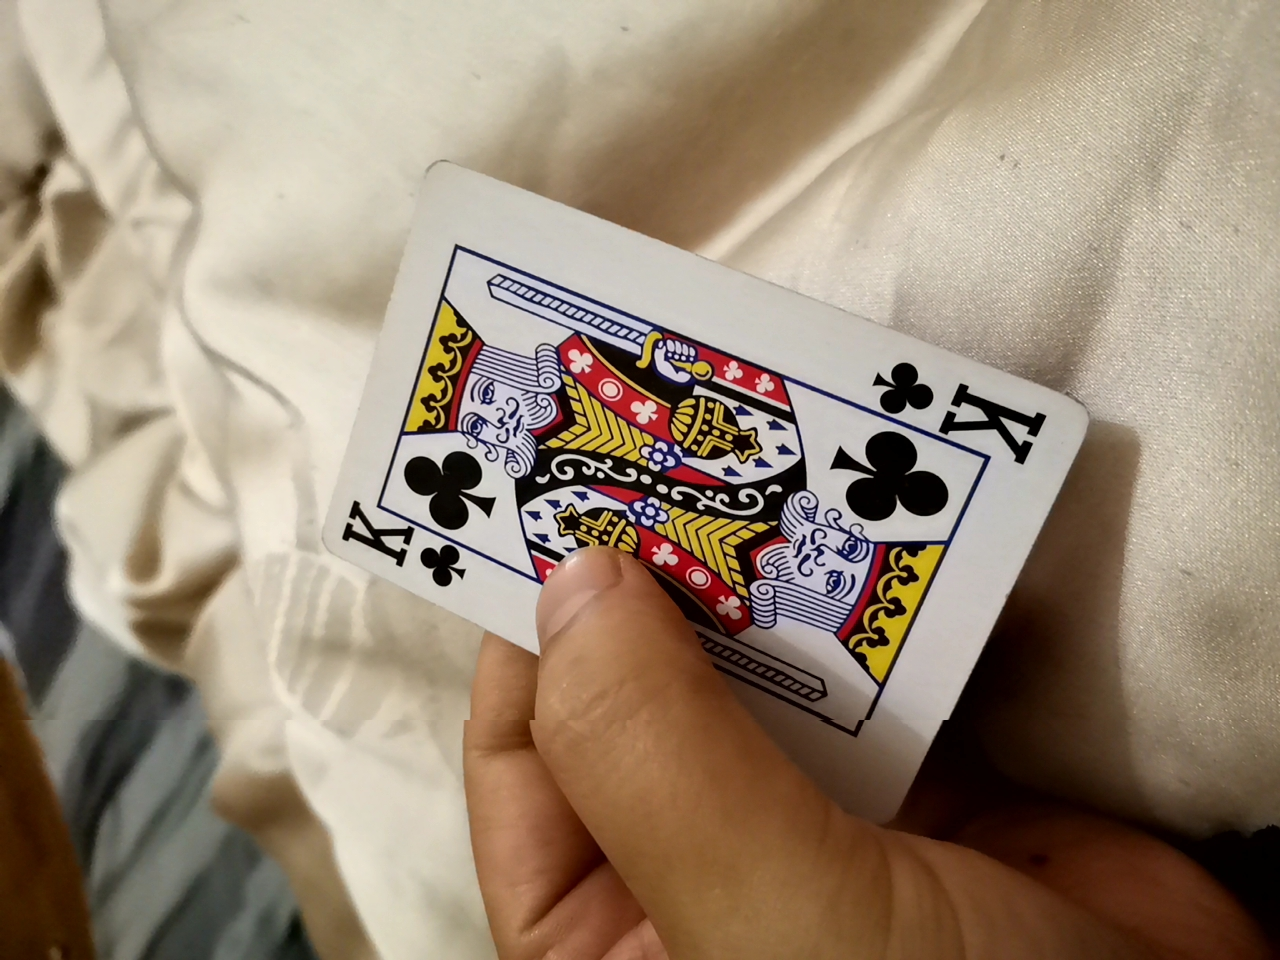mh k: (299, 135, 1081, 782)
